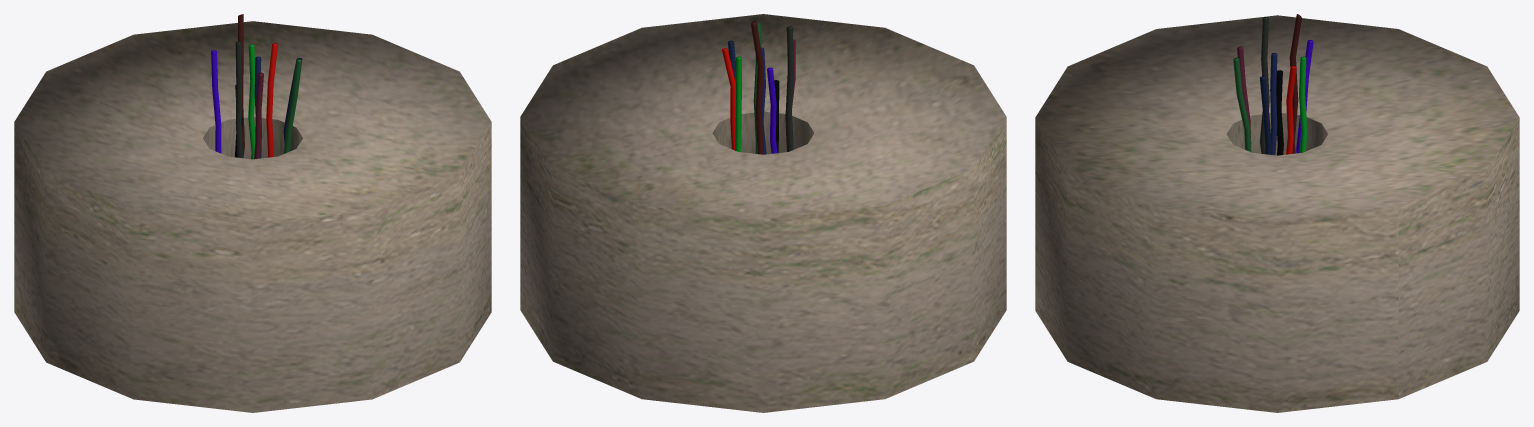
File: streetlightBase.fbx
The picture shows the model from 3 angles, left to right: view 1: azimuth 30°, elevation 25°; view 2: azimuth 150°, elevation 25°; view 3: azimuth 270°, elevation 25°; orthographic projection.
Parts seen in each view (by area): view 1: base; view 2: base; view 3: base.
Part boxes in pixels (x1,y1,x2,y2): base: (14,14,491,412); base: (520,14,1006,412); base: (1035,14,1519,412).
Size of the model in its own units: 22.78 by 15.32 by 22.78.
